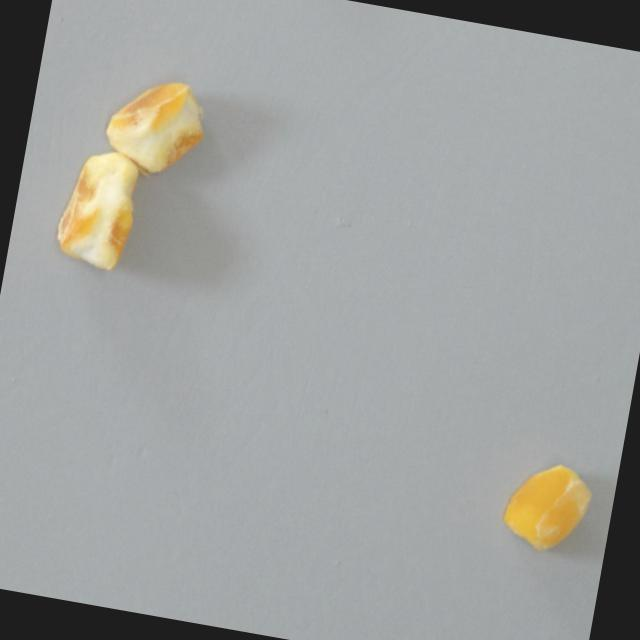pelicula: (49, 143, 153, 277), (97, 70, 215, 181), (497, 455, 598, 558)
